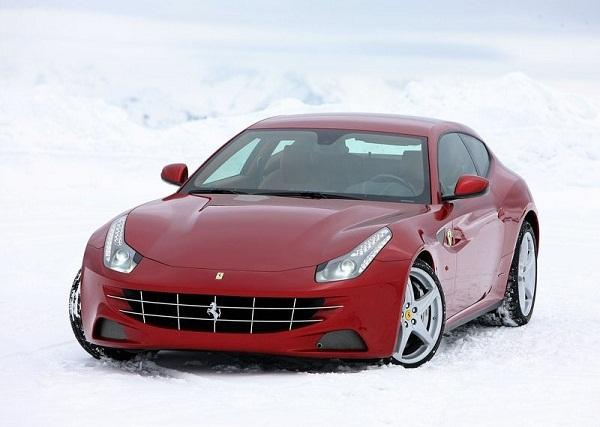car: (63, 105, 549, 379)
